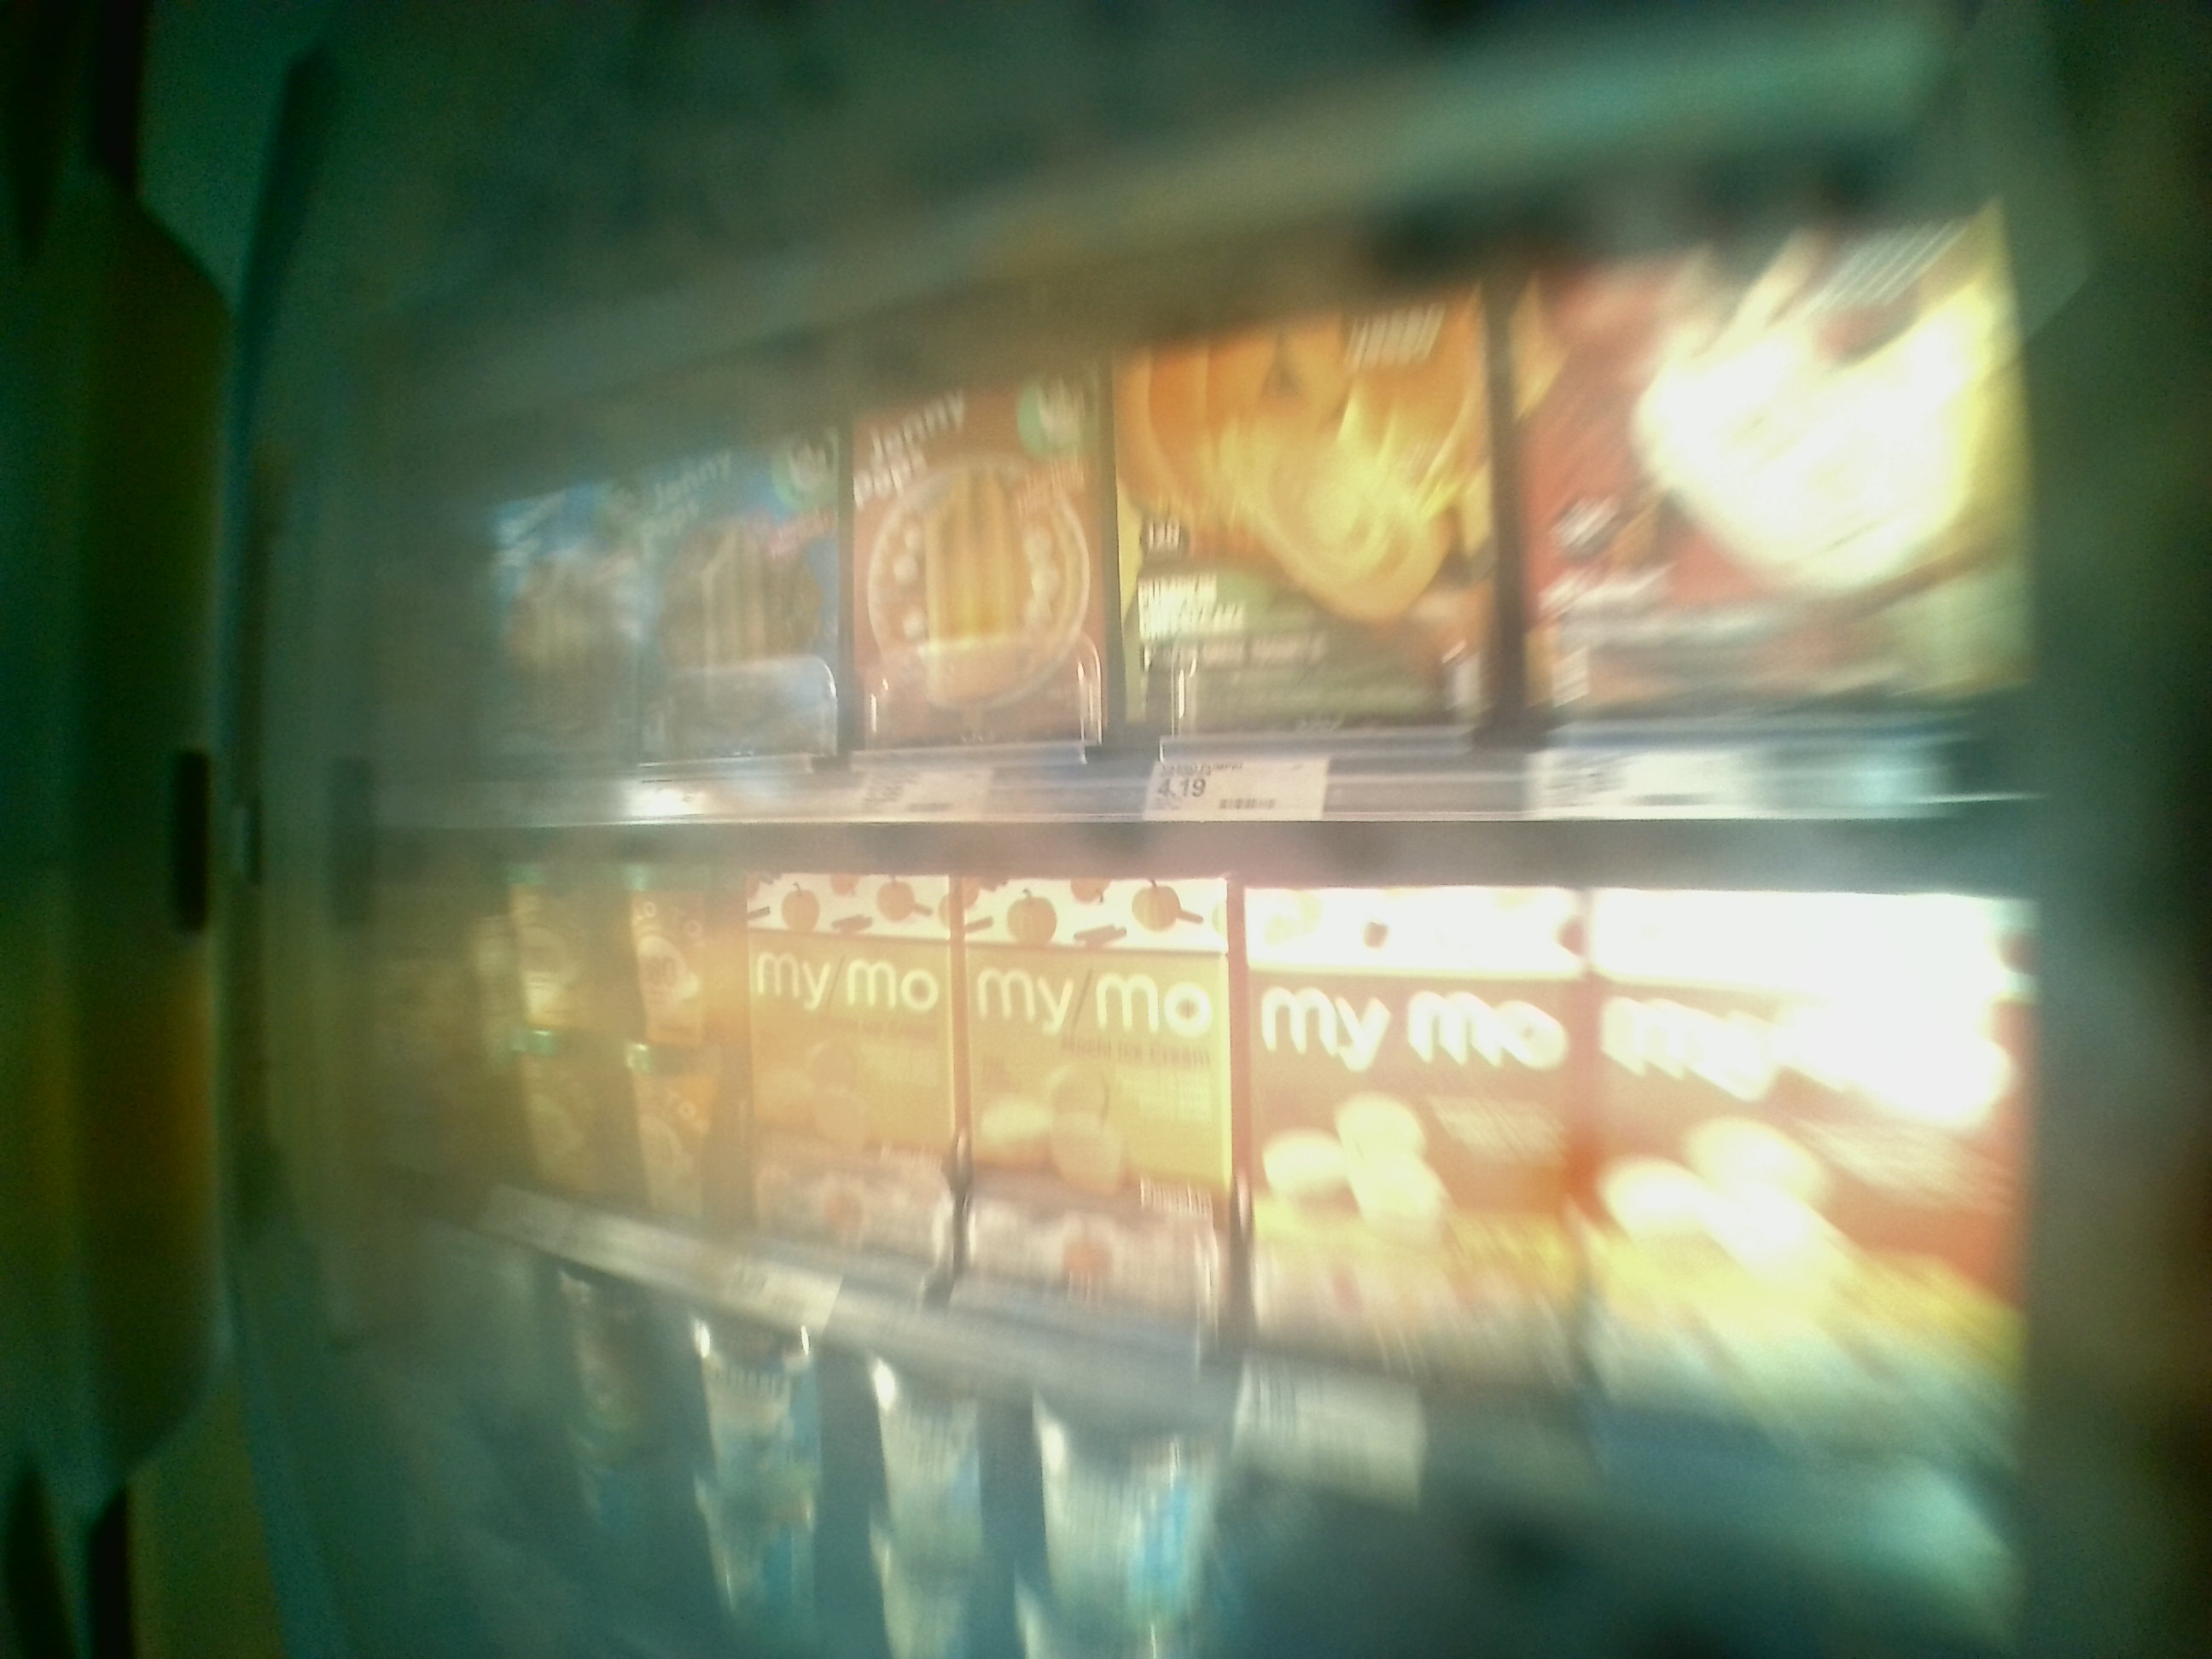shelf: (418, 788, 2034, 1356), (423, 401, 2047, 816)
